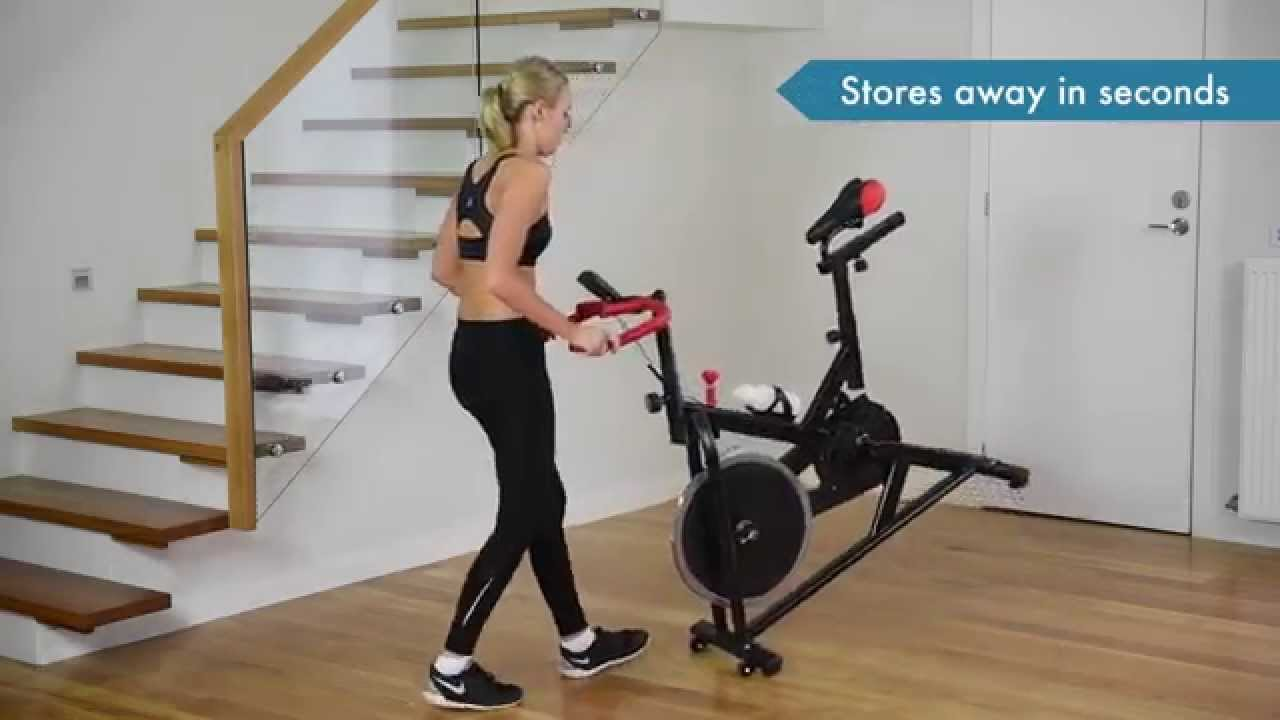gym_bike: (574, 181, 1094, 640)
